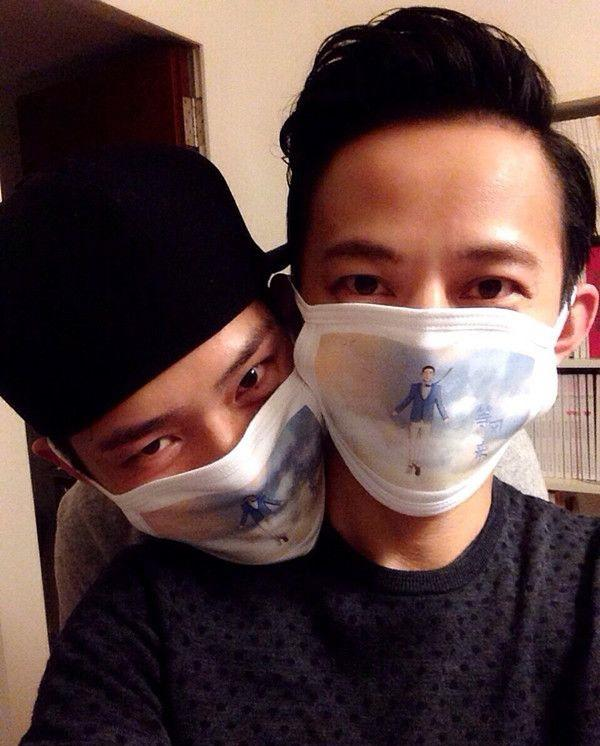OK: (302, 236, 553, 487), (102, 319, 345, 562)
